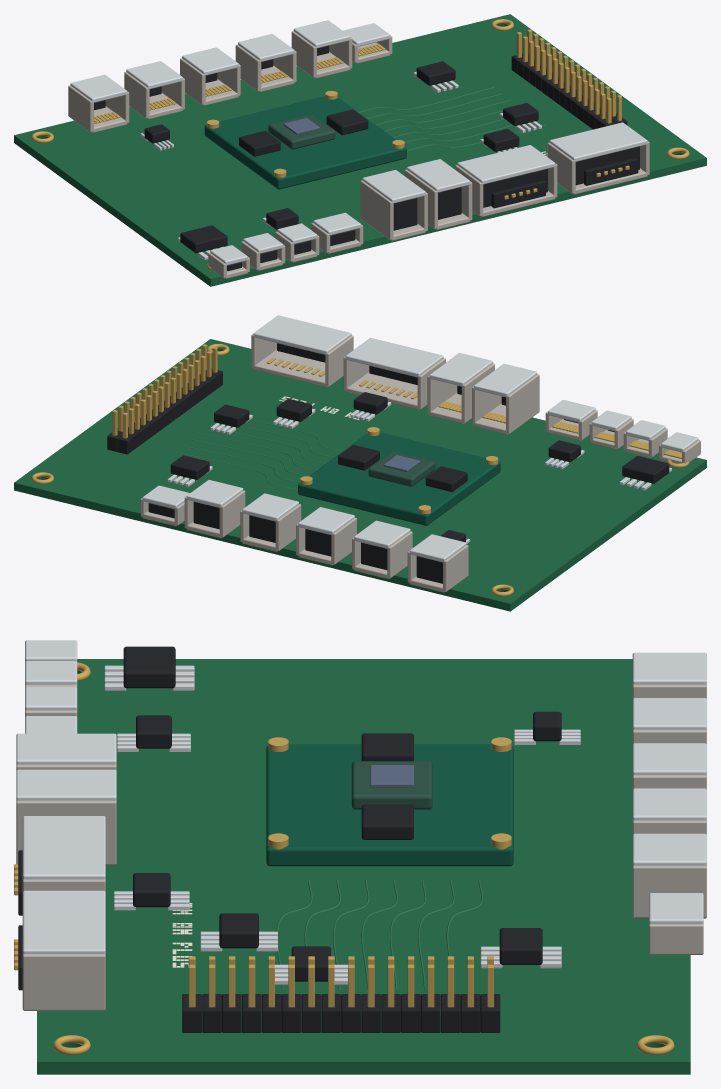
File: boards-20.glb
The picture shows the model from 3 angles, top to bottom: view 1: azimuth 30°, elevation 25°; view 2: azimuth 150°, elevation 25°; view 3: azimuth 270°, elevation 25°; orthographic projection. The views are drawn at different scales.
Parts seen in each view (by area): view 1: pcb, industrial, module, ethernet, lvds, cameras, expansion, dsi, usb, cpu, hdmi, power (+1 smaller); view 2: pcb, industrial, module, ethernet, expansion, lvds, cameras, dsi, usb, cpu, hdmi, power (+1 smaller); view 3: pcb, module, industrial, expansion, ethernet, lvds, cameras, cpu, dsi, hdmi, usb, power (+1 smaller).
Part boxes in pixels (x1,y1,x2,y2): pcb: [14, 14, 706, 286]; industrial: [455, 122, 649, 216]; module: [204, 90, 406, 189]; ethernet: [360, 159, 472, 240]; lvds: [235, 20, 352, 91]; cameras: [124, 47, 240, 119]; expansion: [511, 29, 627, 129]; dsi: [68, 74, 129, 132]; usb: [275, 212, 363, 262]; cpu: [268, 114, 335, 149]; hdmi: [343, 23, 392, 63]; power: [241, 233, 285, 270]; pcb: [14, 339, 706, 611]; industrial: [251, 315, 445, 409]; module: [298, 427, 500, 525]; ethernet: [427, 353, 539, 434]; expansion: [107, 344, 222, 454]; lvds: [184, 480, 301, 551]; cameras: [296, 507, 412, 578]; dsi: [407, 534, 468, 592]; usb: [545, 400, 633, 449]; cpu: [368, 451, 435, 486]; hdmi: [140, 485, 189, 526]; power: [623, 420, 667, 457]; pcb: [37, 646, 690, 1074]; module: [266, 733, 513, 866]; industrial: [14, 816, 105, 1010]; expansion: [182, 956, 500, 1032]; ethernet: [16, 733, 116, 864]; lvds: [632, 788, 706, 918]; cameras: [632, 698, 706, 789]; cpu: [351, 761, 432, 809]; dsi: [632, 652, 706, 698]; hdmi: [649, 893, 703, 954]; usb: [25, 686, 77, 733]; power: [25, 661, 77, 687].
Size of the model in its own units: 4.36 by 0.411 by 3.17.
